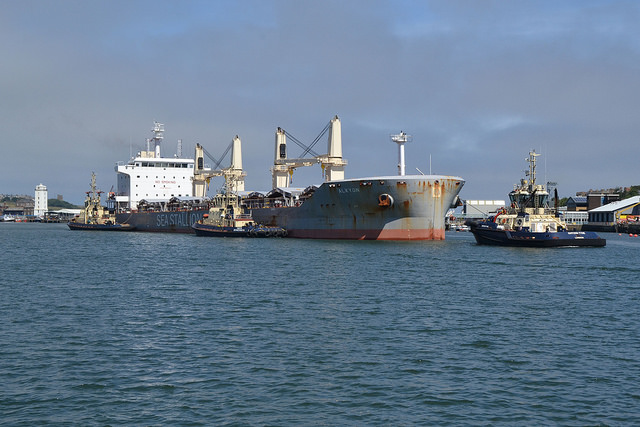bulk carrier: (116, 124, 465, 242)
tug_boat: (468, 151, 614, 250), (189, 176, 286, 234), (67, 170, 135, 233)
